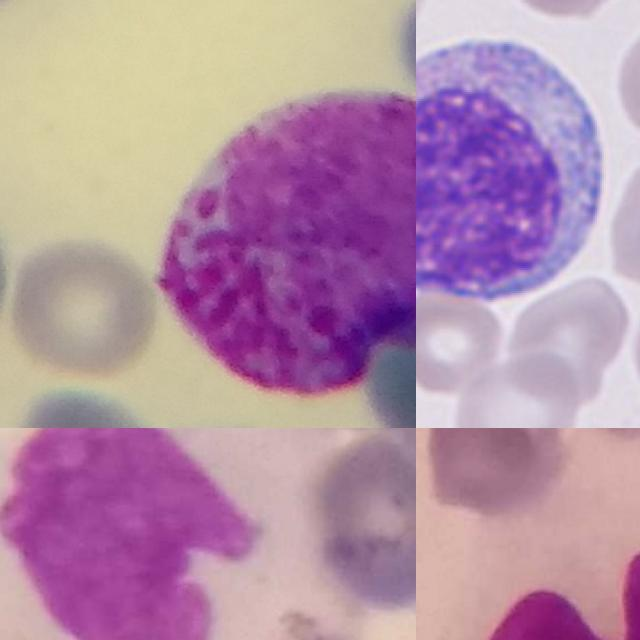Basophil: (154, 82, 416, 399)
Lymphocyte: (416, 20, 619, 314)
Monocyte: (0, 428, 360, 640), (450, 428, 640, 640)
RBC: (504, 272, 632, 410), (447, 348, 584, 428), (416, 288, 505, 398), (604, 149, 640, 291), (609, 12, 640, 140)
